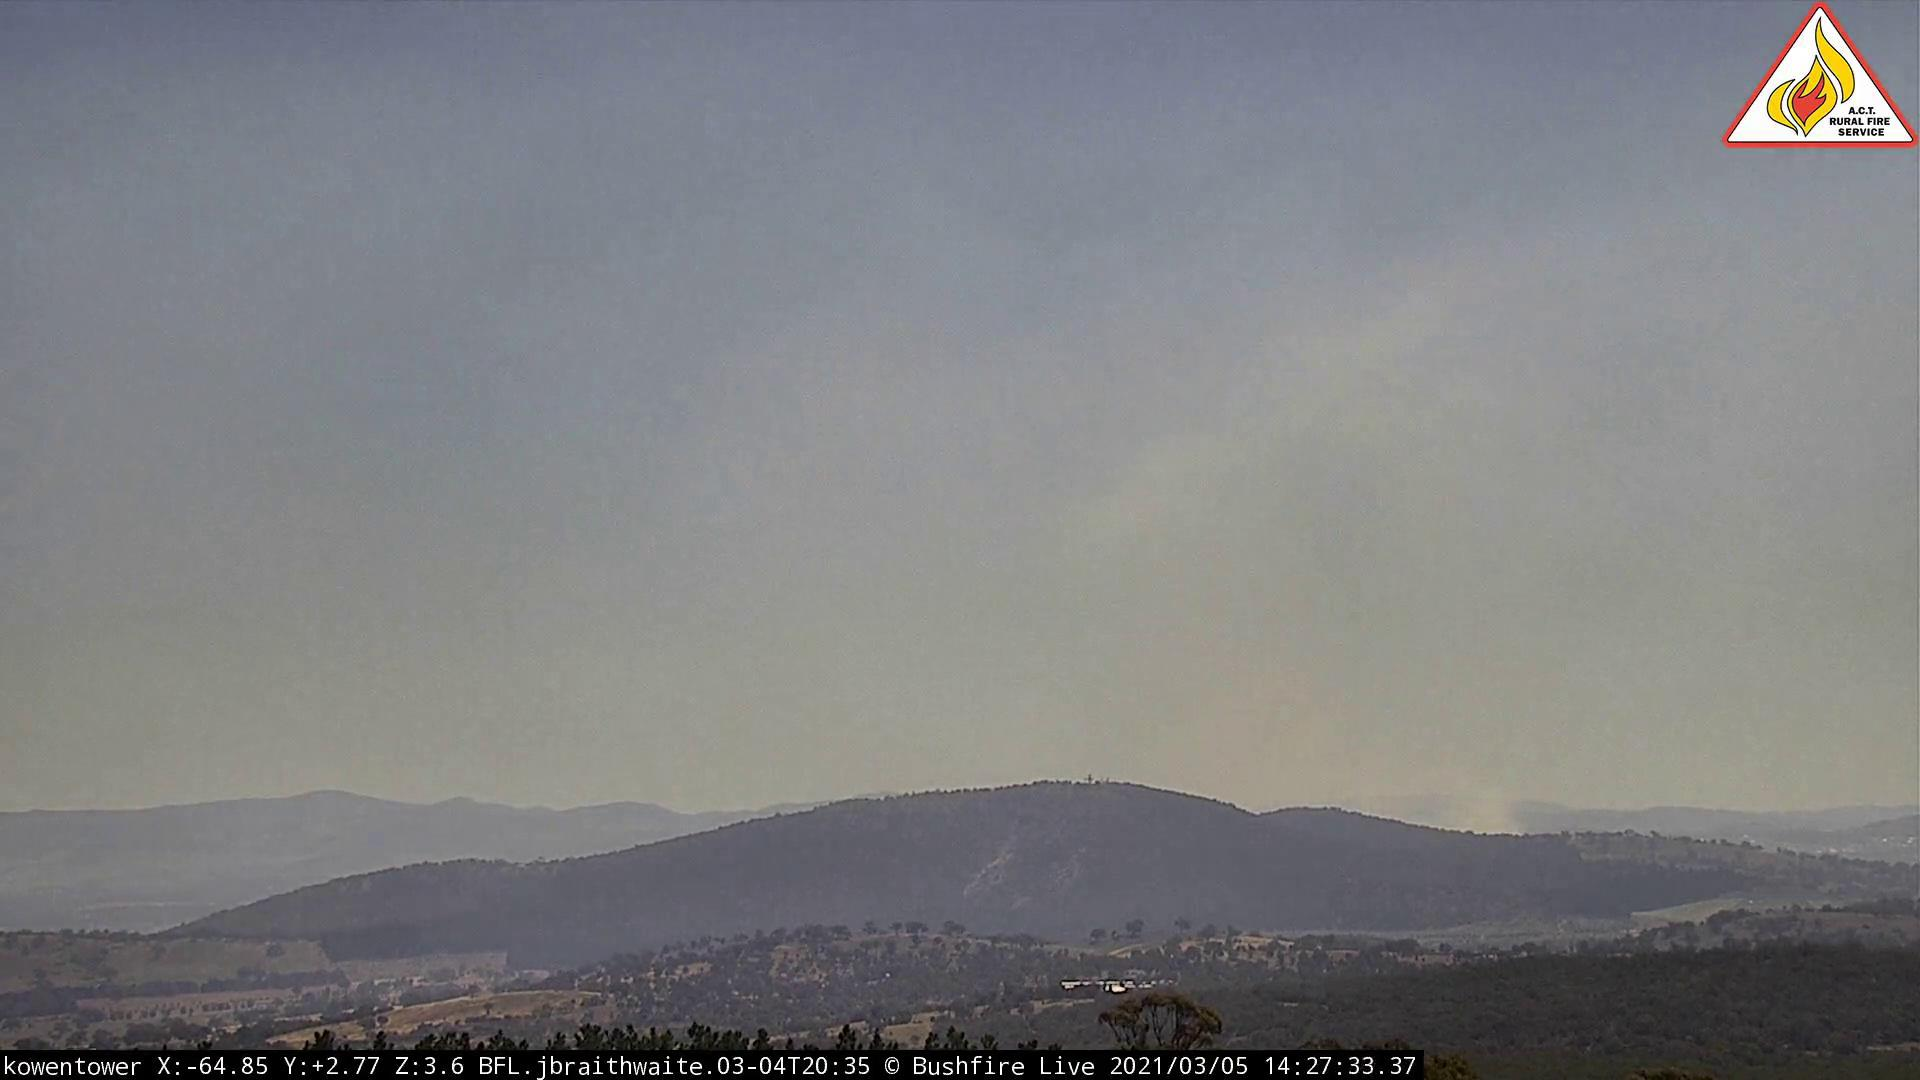Smoke: (1098, 492, 1545, 844)
